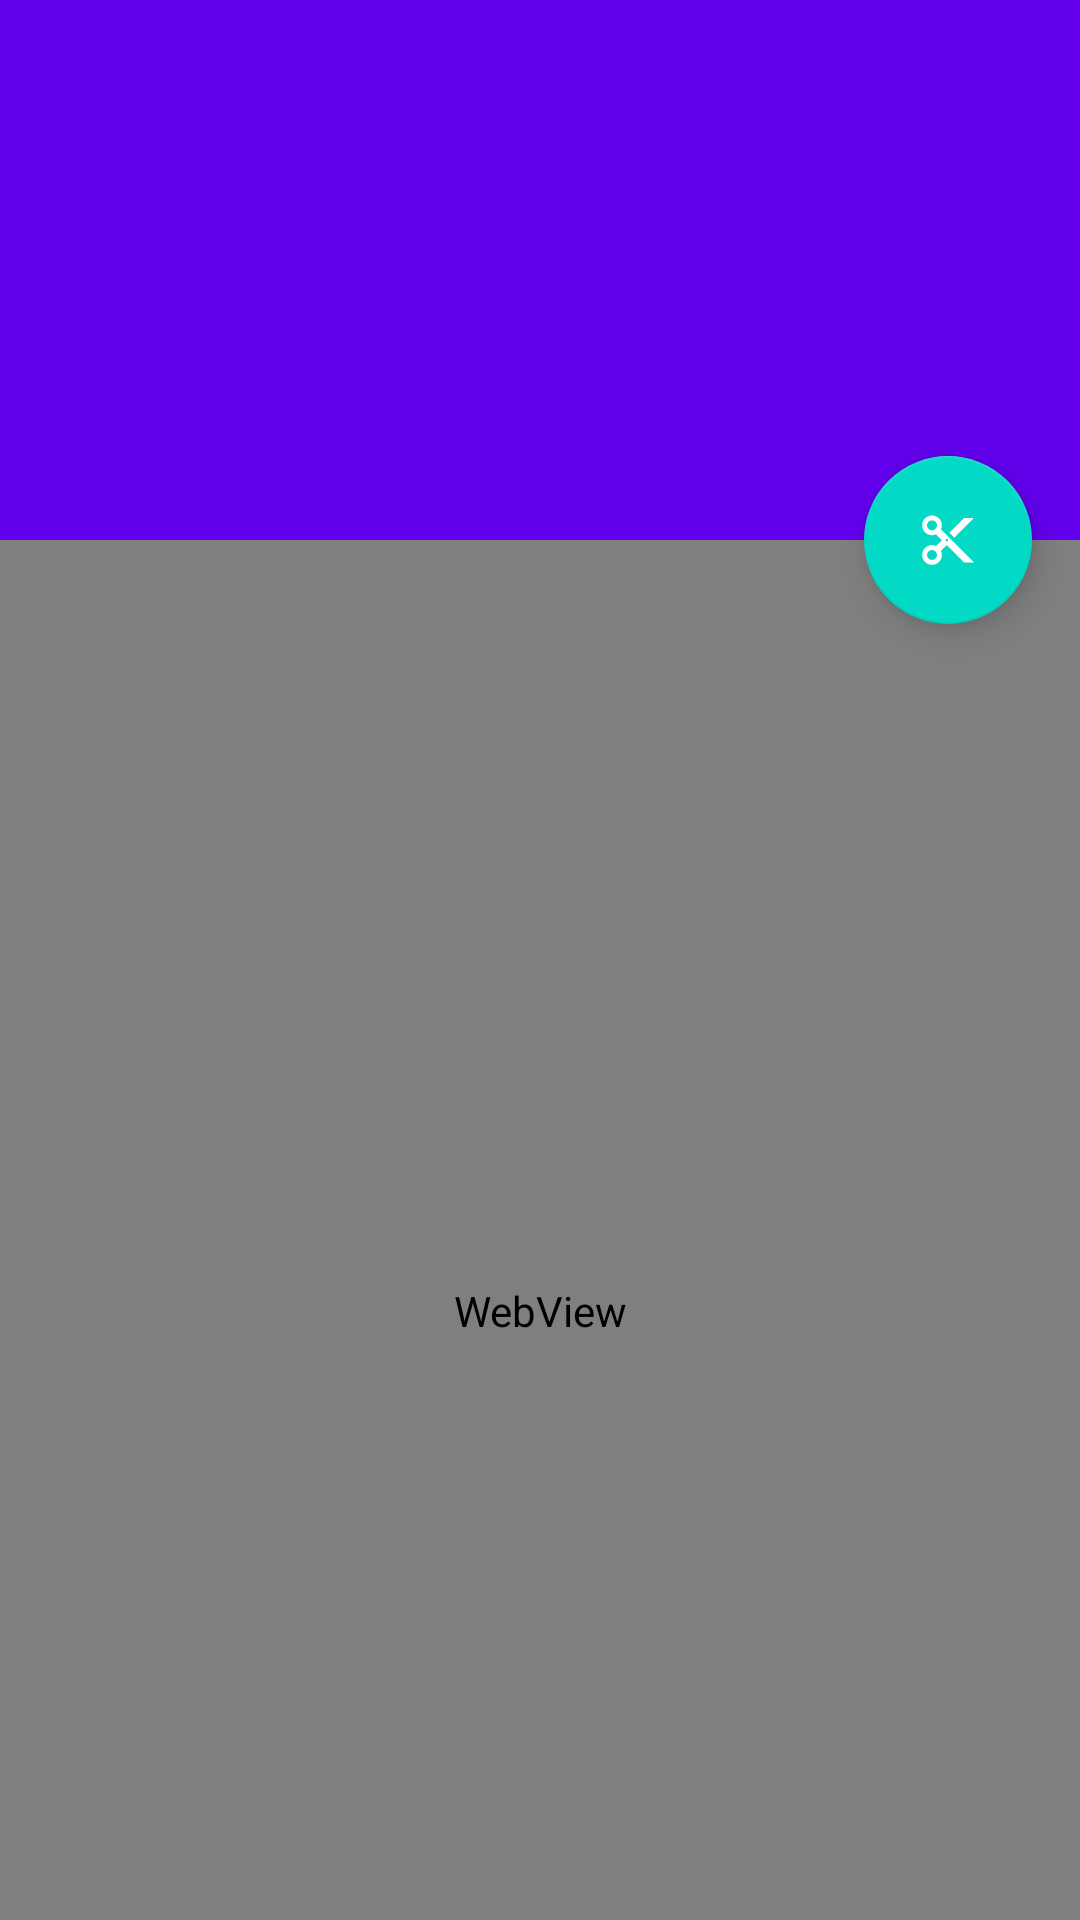

Icons on this 1080px×1920px Android screen, each with the point to tap as point (x, y):
cut: point (948, 540)
